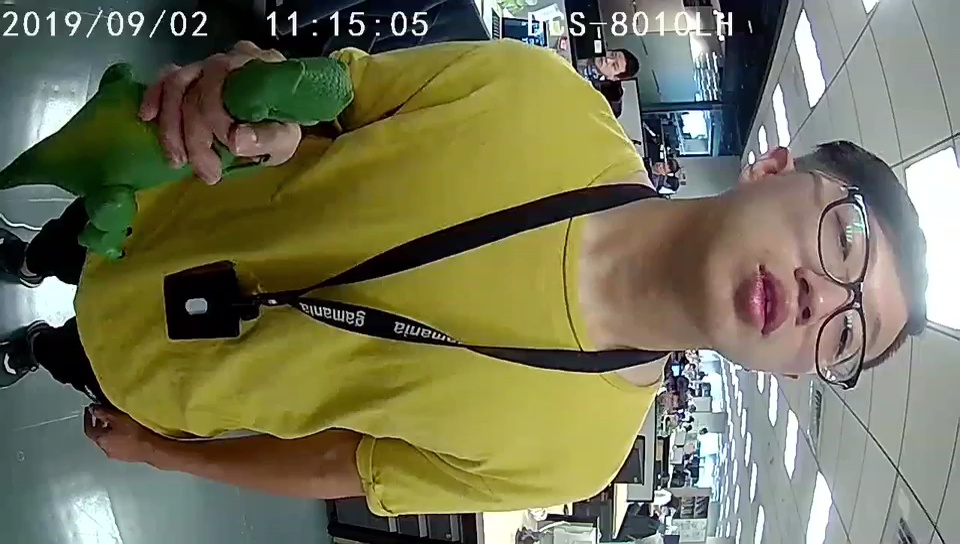rex: (70, 56, 353, 258)
